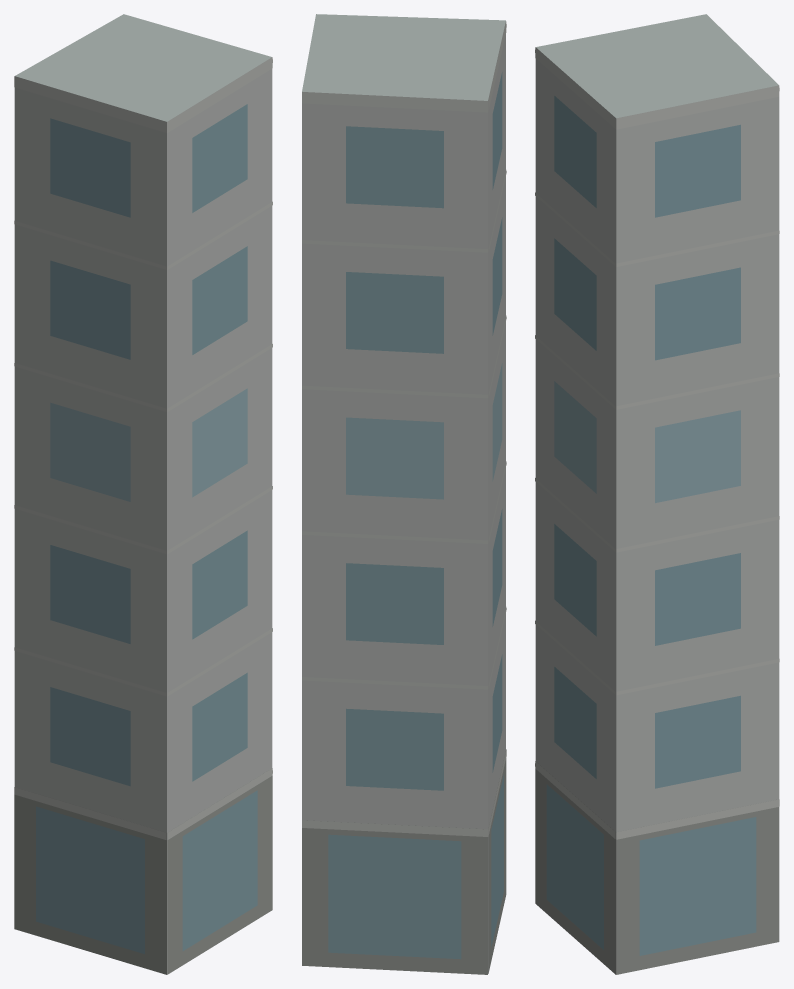
Rendered from survey-upis-32997598.glb.
3 views of the same model, side by side, from view 1: azimuth 30°, elevation 25°; view 2: azimuth 150°, elevation 25°; view 3: azimuth 270°, elevation 25° (orthographic). The views are drawn at different scales.
Visible parts, largest first — view 1: survey-upis-32997598.tmp; view 2: survey-upis-32997598.tmp; view 3: survey-upis-32997598.tmp.
Part boxes in pixels (x1,y1,x2,y2): survey-upis-32997598.tmp: (14,14,272,974); survey-upis-32997598.tmp: (302,14,506,974); survey-upis-32997598.tmp: (535,14,779,974).
Bounding box in the file's own units: 4.8 × 18.3 × 4.74.
